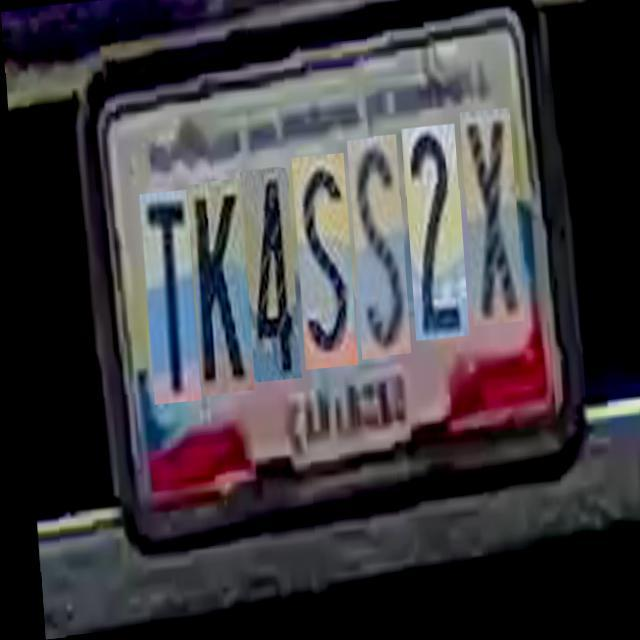2: (399, 130, 463, 347)
4: (237, 168, 294, 382)
K: (185, 177, 248, 393)
S: (288, 156, 352, 372), (344, 140, 404, 362)
T: (136, 187, 194, 400)
X: (458, 117, 518, 335)
